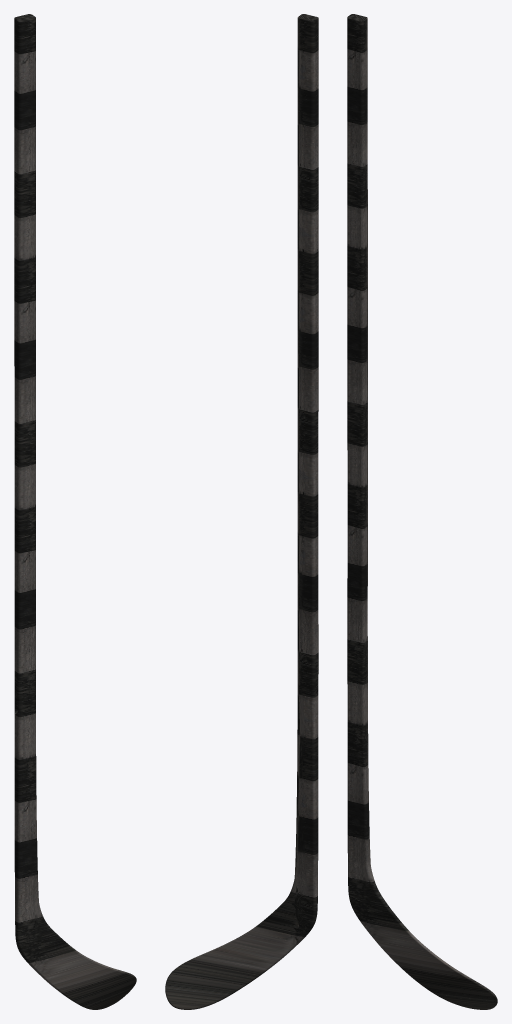
3 renders of one model, left to right at view 1: azimuth 30°, elevation 25°; view 2: azimuth 150°, elevation 25°; view 3: azimuth 330°, elevation 25°, orthographic. The views are drawn at different scales.
Parts seen in each view (by area): view 1: geometry_0; view 2: geometry_0; view 3: geometry_0.
Boxes of the visible parts, bbox=[...] form: geometry_0: bbox=[14, 14, 136, 1009]; geometry_0: bbox=[165, 14, 318, 1009]; geometry_0: bbox=[347, 14, 497, 1009].
Size of the model in its own units: 230 by 1650 by 78.18.
Materials: 1 (1 with a texture image).
